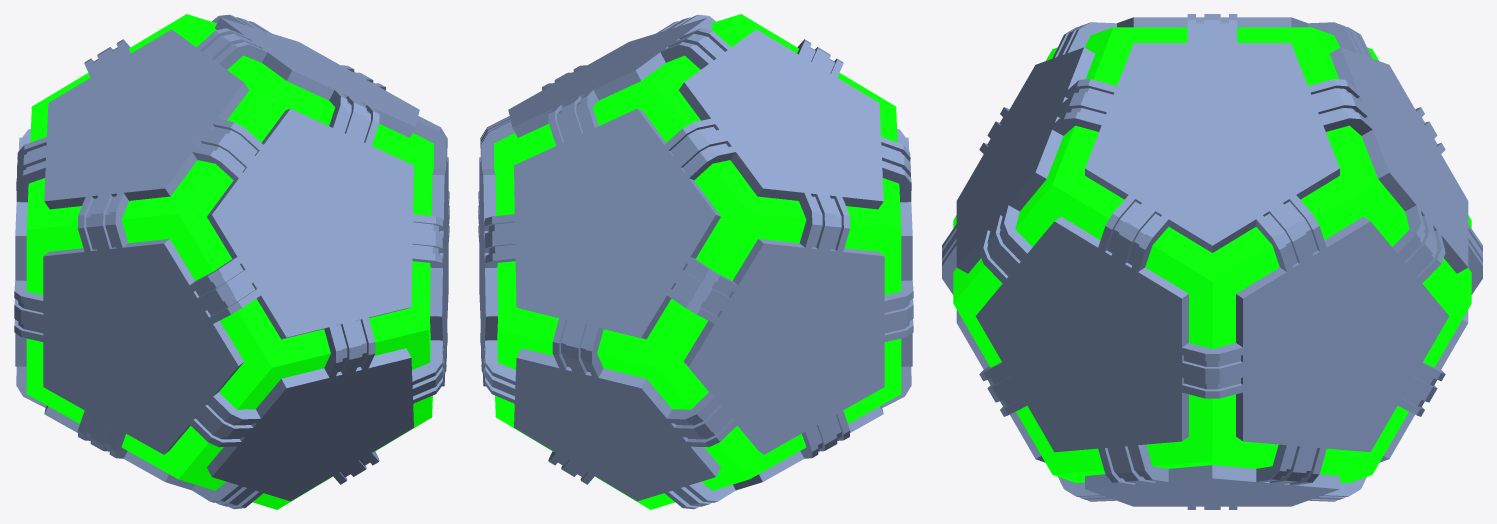
The model's file is Collectable.fbx.
3 views of the same model, side by side, from view 1: azimuth 30°, elevation 25°; view 2: azimuth 150°, elevation 25°; view 3: azimuth 270°, elevation 25° (orthographic). The views are drawn at different scales.
Parts seen in each view (by area): view 1: Solid; view 2: Solid; view 3: Solid.
Boxes of the visible parts, <box> form: Solid: <box>14,14,449,509</box>; Solid: <box>478,14,913,509</box>; Solid: <box>942,14,1482,509</box>.
Bounding box in the file's own units: 195 × 195 × 195.
